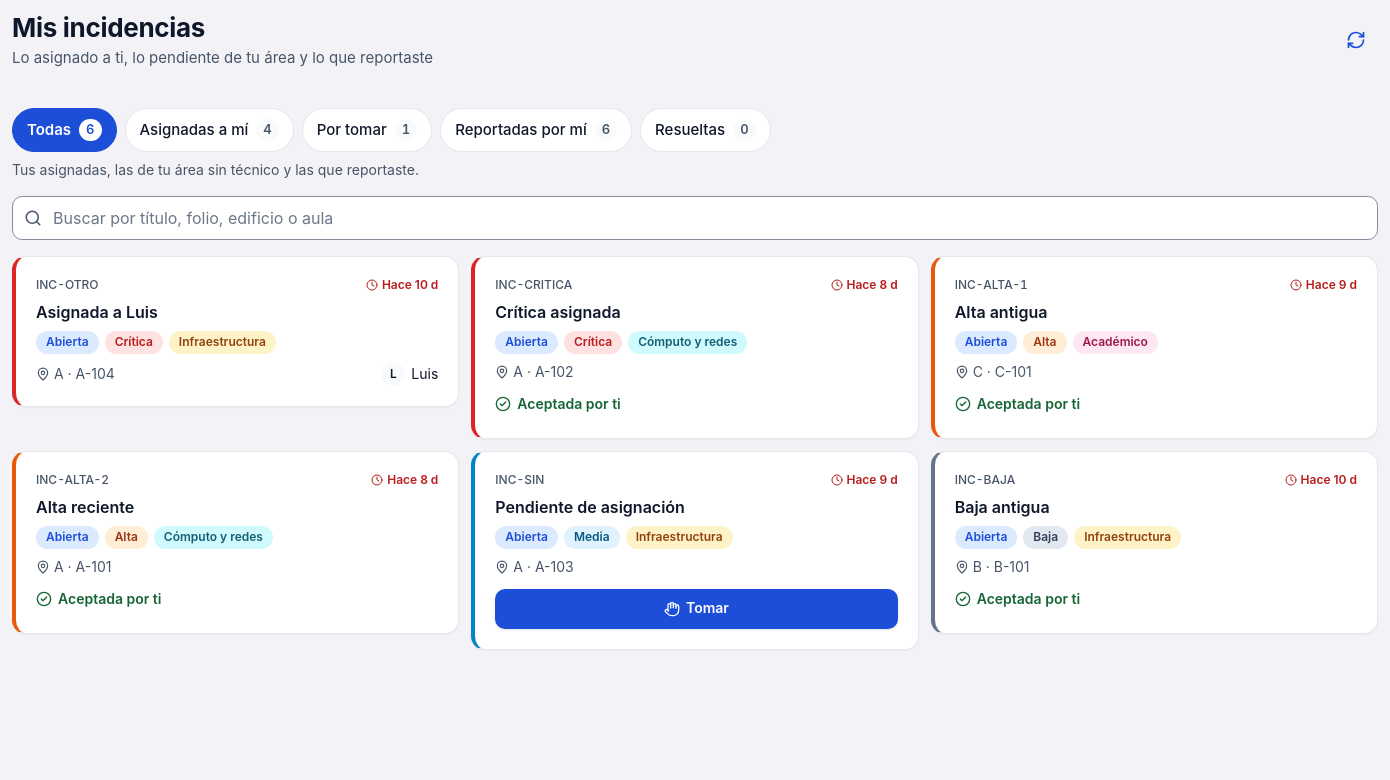
it: Mis incidencias del técnico (T-050) › muestra el 409 cuando otro técnico la tomó antes y refresca la lista
Click the button with aria-label "Tomar INC-SIN" at [696, 609], box [495,589,898,629]
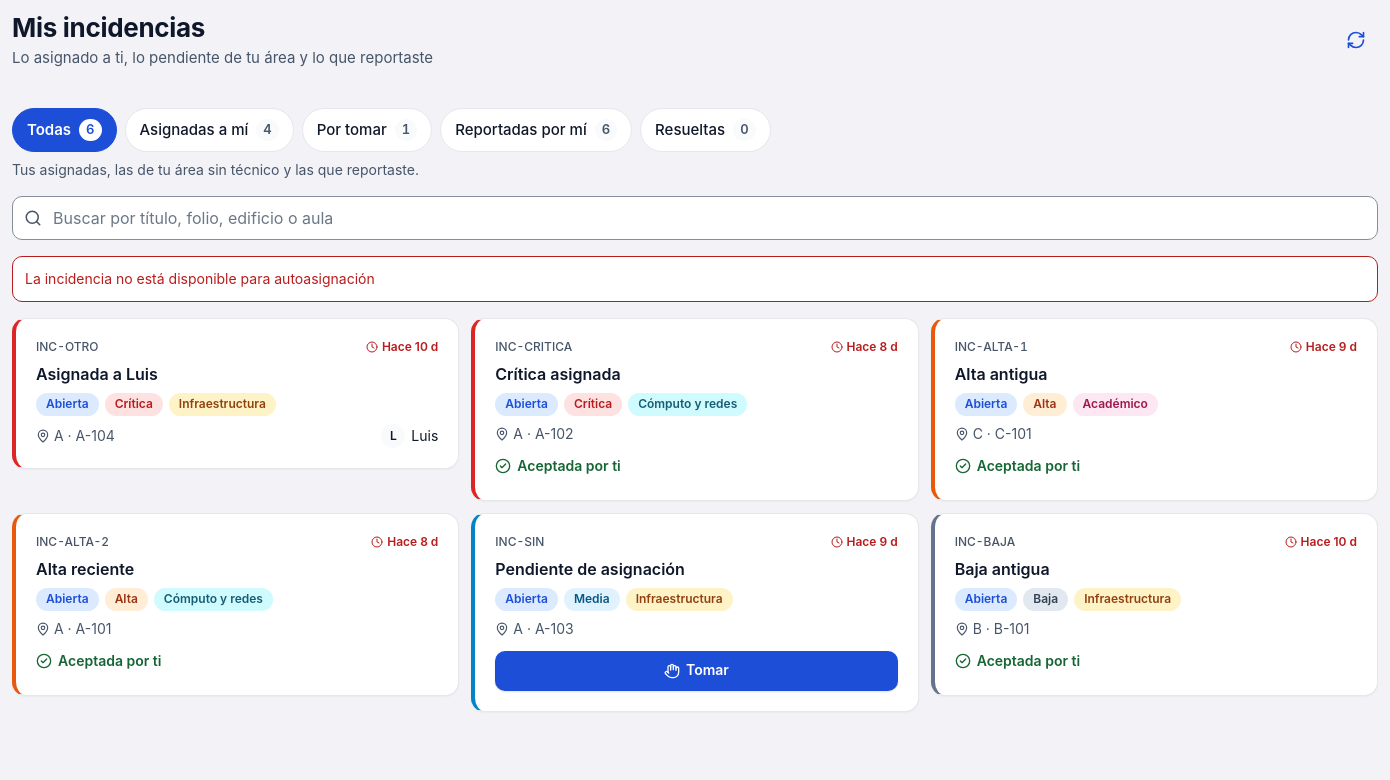
Expected: the message reads "La incidencia no está disponible para autoasignación", [25,270,375,287]
